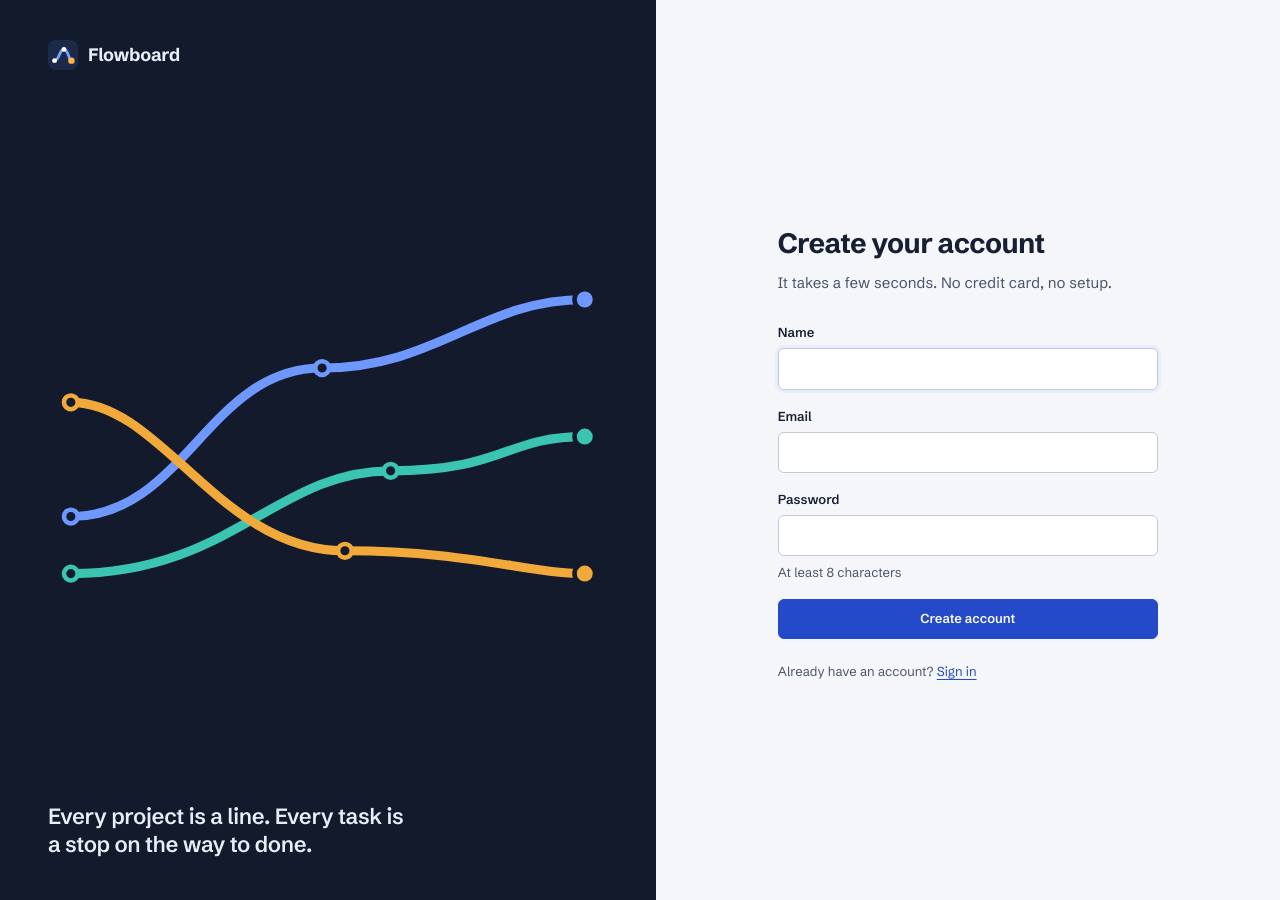
Test: authentication › shows field errors from the shared schema
Click the button "Create account" at (968,618), box [778,598,1158,638]
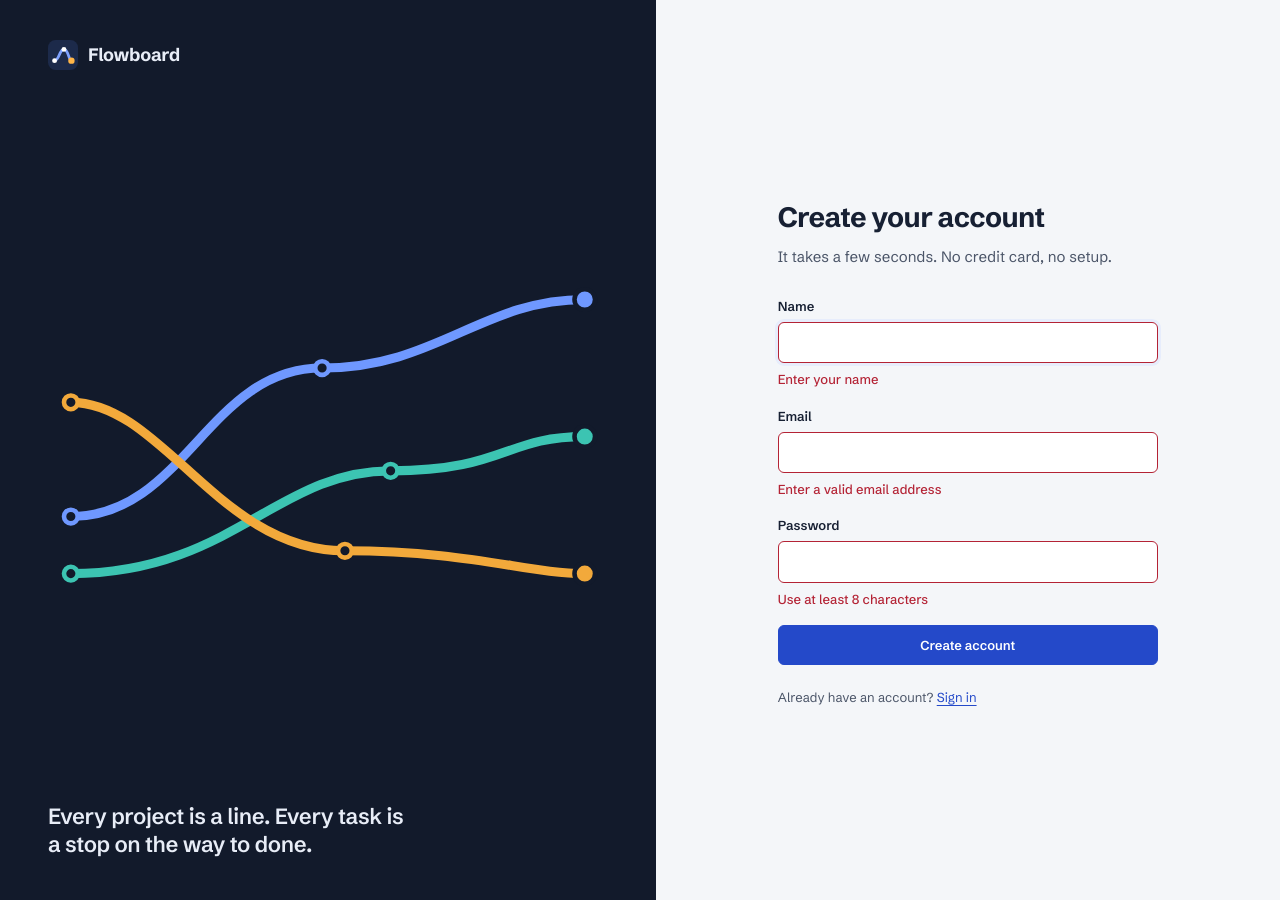
Expected: the text "Enter your name" is shown, [778,371,878,387]
Expected: the text "Enter a valid email address" is shown, [778,481,941,497]
